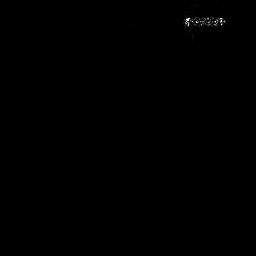ship: (185, 15, 226, 28)
